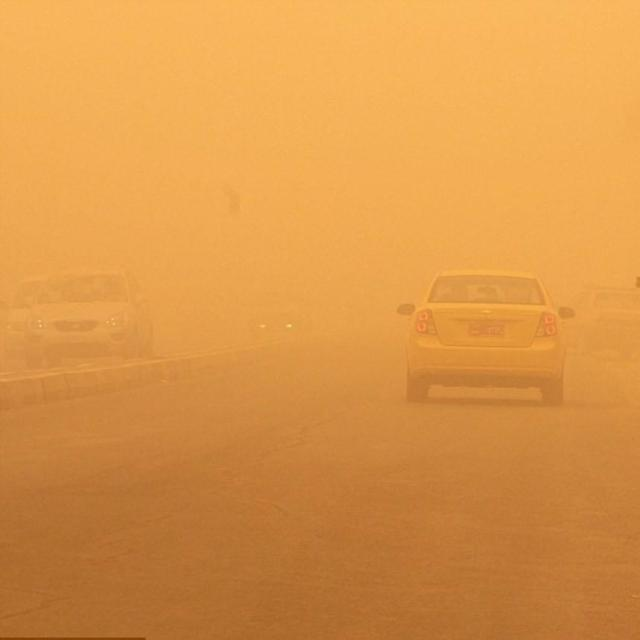Car: (396, 270, 575, 411), (25, 268, 156, 366), (567, 282, 640, 359), (2, 271, 51, 364), (255, 310, 306, 336)
